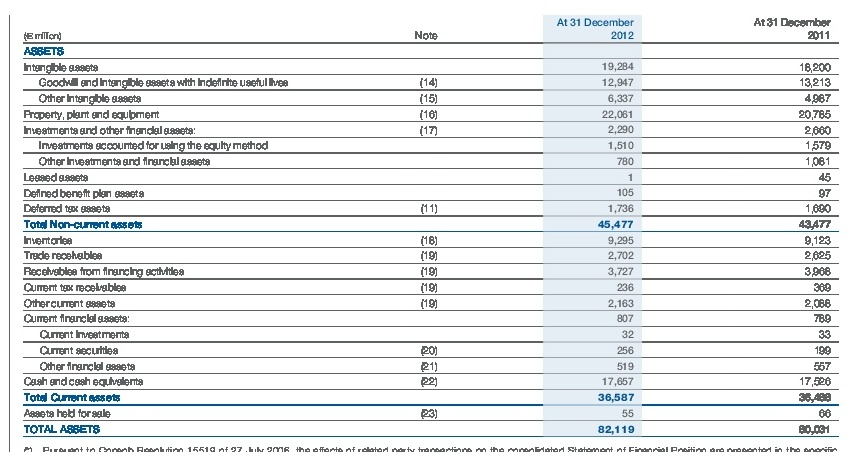table: (0, 0, 848, 452)
